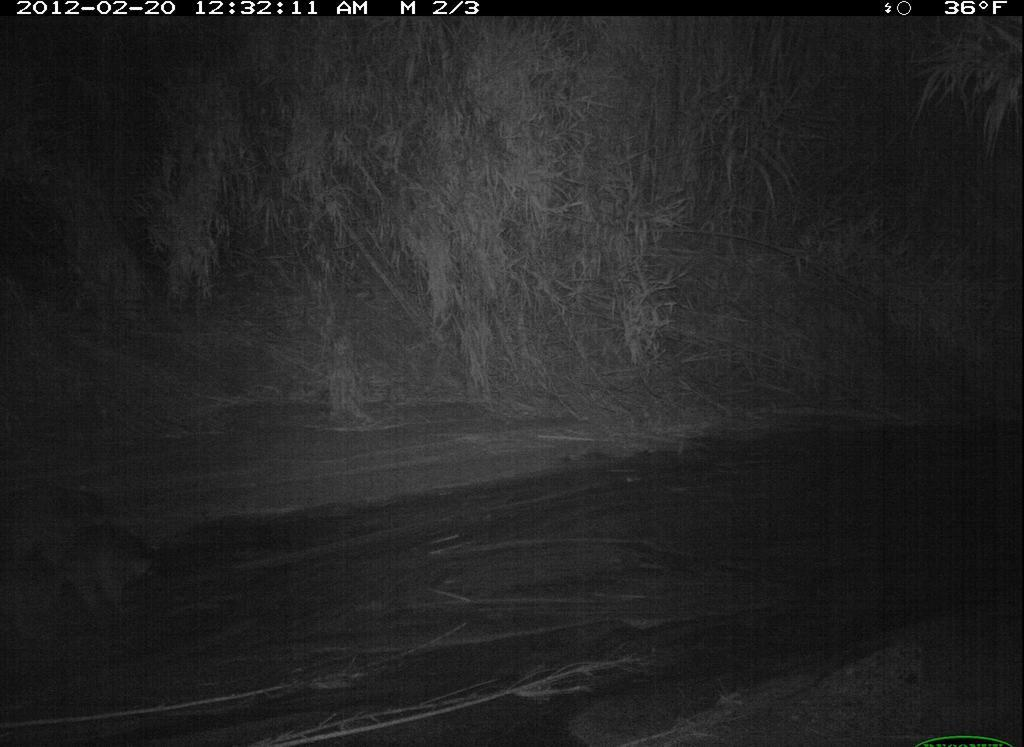raccoon: (9, 516, 173, 614)
